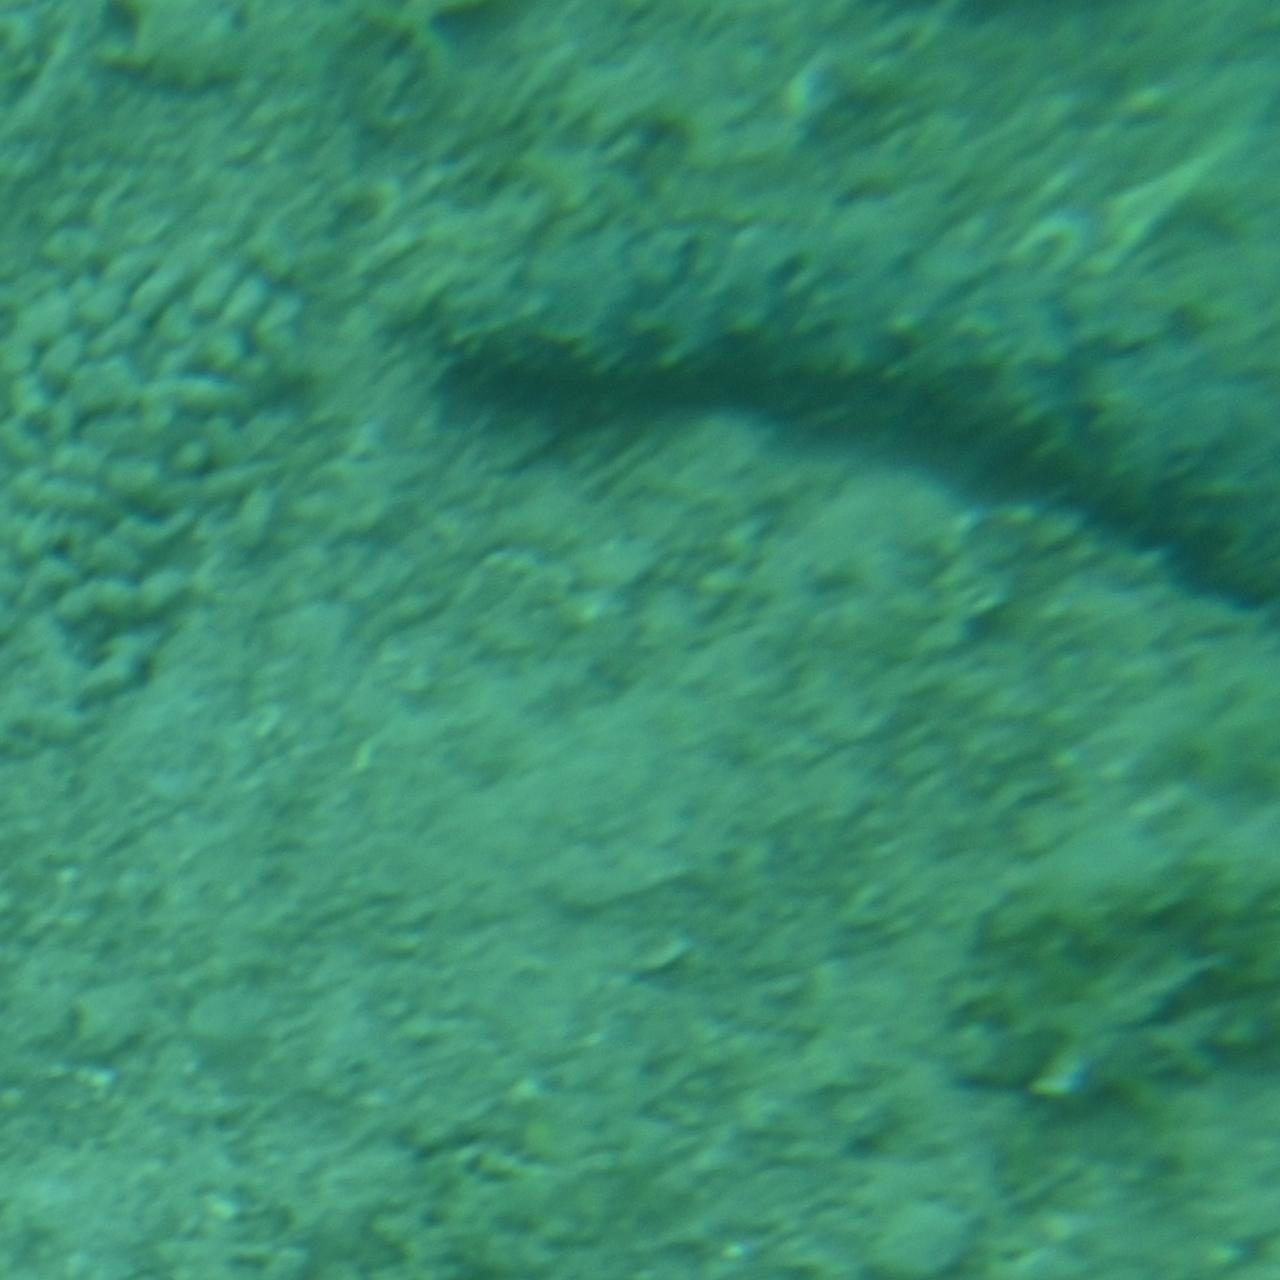Holothuria tubulosa: (401, 213, 1279, 615)
